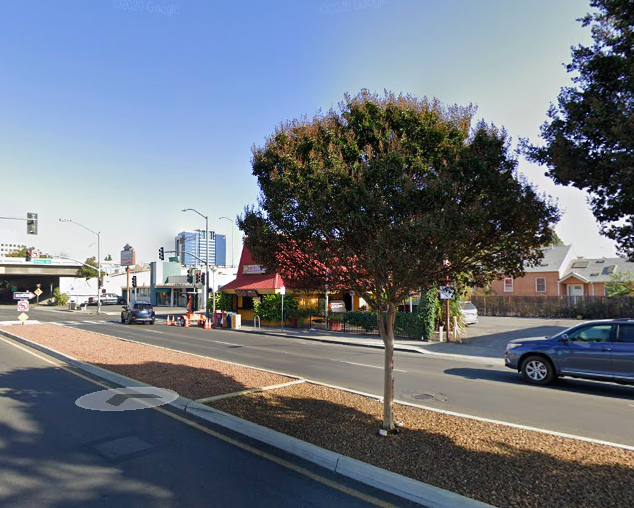tree: (235, 87, 564, 433)
